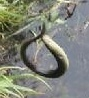Anguilla anguilla: (20, 20, 69, 78)
